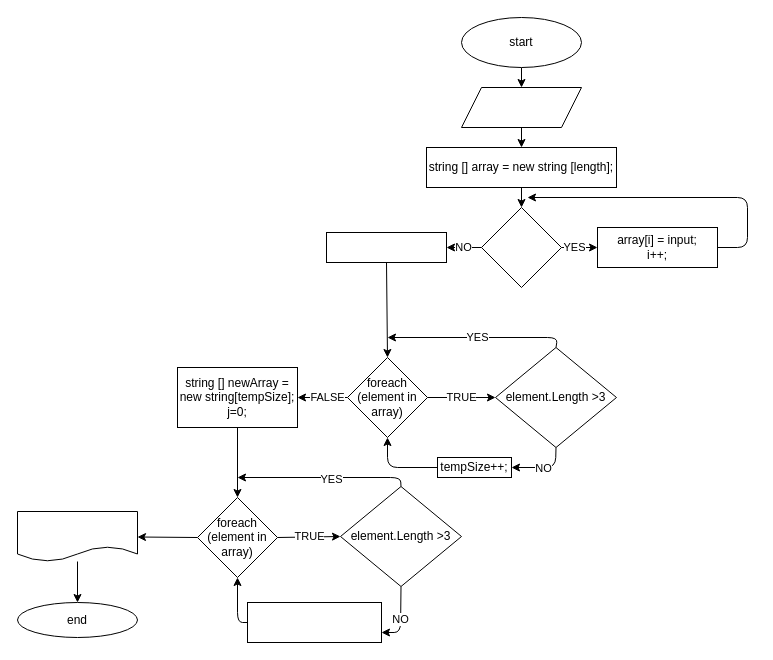
Some shapes in this 773 by 660 pixel diagram are drawn without their labels. The centre of each missing label's shape, as x and y in pixels:
"i<length" belongs at point 521,247.
"input length;" belongs at point 521,107.
"newArray[j] = element; j++;" belongs at point 314,622.
"print array; print newArray;" belongs at point 77,536.
"tempSize=0;" belongs at point 386,247.
